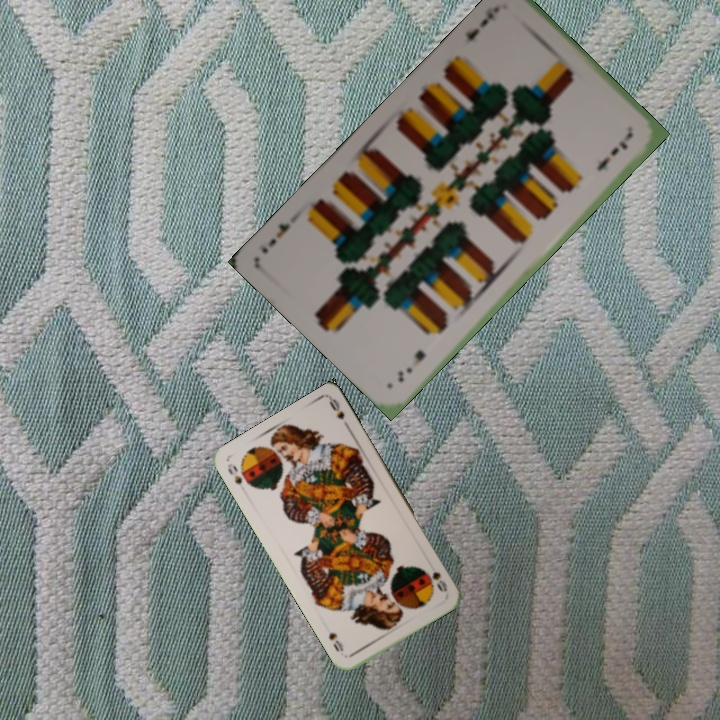E7: (461, 2, 502, 44), (393, 346, 428, 385)
SO: (422, 566, 450, 595), (223, 459, 251, 487)
